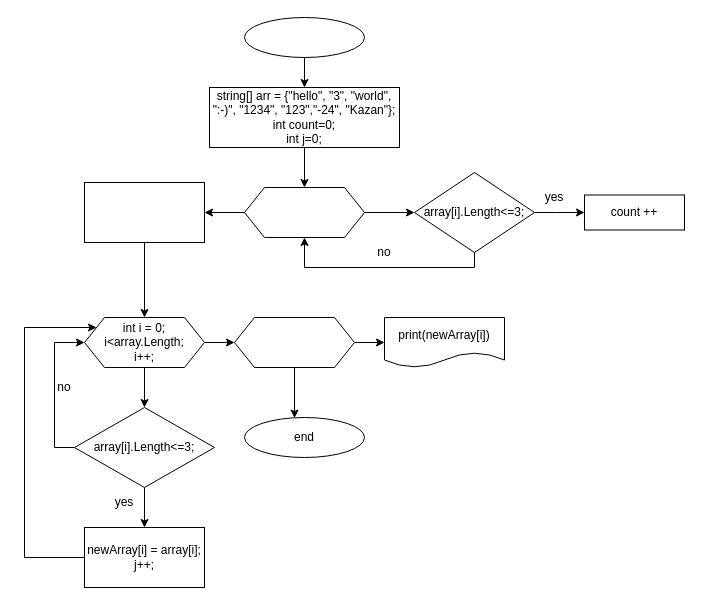
Image size: 702x605. Some labels were removed from this diagram. Here are the shapes that lost their labels. From the top down, the centre of each, then its label:
At point 304,37: "start".
At point 144,212: "string[] newArray = new string[count];".
At point 304,212: "int i=0; i<array.Length; i++;".
At point 294,342: "int i=0; i<newArray.Length; i++;".
